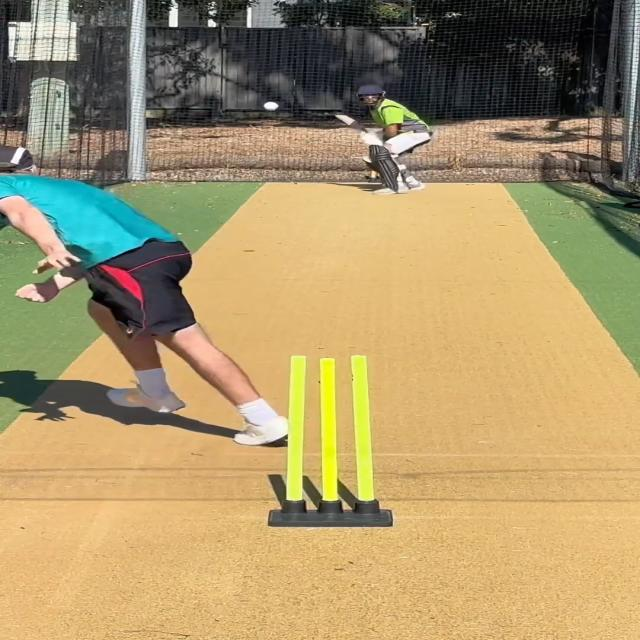ball: (261, 100, 280, 113)
stump: (270, 354, 396, 528)
